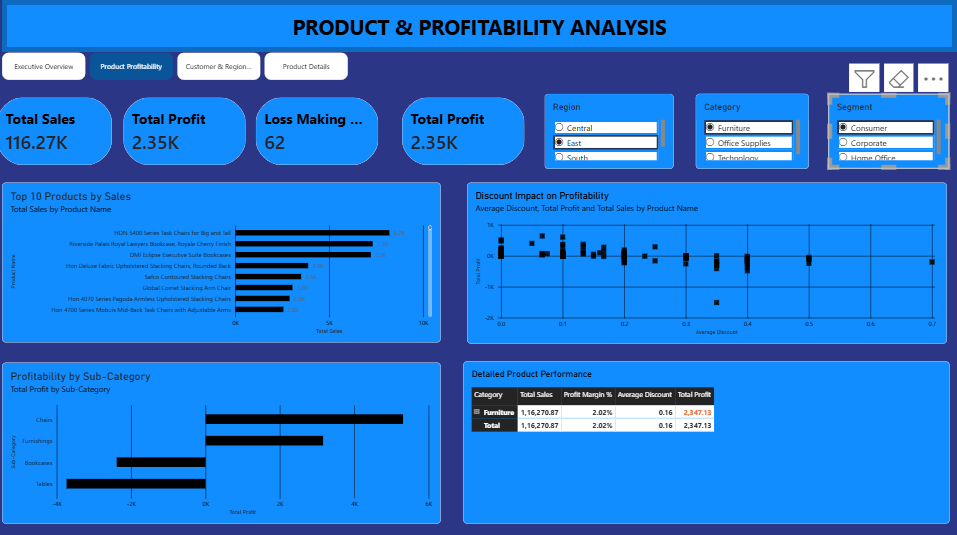

Layout of this report page (visuals, bound fields, positions):
{"tool":"powerbi","page":{"name":"Product Profitability","canvas":[1920,1080],"ordinal":1},"visuals":[{"type":"shape","box":[10,0,1910,104],"z":0},{"type":"clusteredBarChart","title":"Top 10 Products by Sales","fields":{"Category":["Fact_Sales.Product Name"],"Y":["Dim_Date.Total Sales"]},"box":[10,365,877.5,320],"z":1},{"type":"clusteredBarChart","title":"Profitability by Sub-Category","fields":{"Category":["Fact_Sales.Sub-Category"],"Y":["Dim_Date.Total Profit"]},"box":[10,725,877.5,322.5],"z":2},{"type":"scatterChart","title":"Discount Impact on Profitability","fields":{"Category":["Fact_Sales.Product Name"],"X":["Fact_Sales.Average Discount"],"Y":["Dim_Date.Total Profit"]},"box":[940,365,960,322.5],"z":3},{"type":"pivotTable","title":"Detailed Product Performance","fields":{"Rows":["Fact_Sales.Category","Fact_Sales.Sub-Category"],"Values":["Dim_Date.Total Sales","Dim_Date.Profit Margin %","Fact_Sales.Average Discount","Dim_Date.Total Profit"]},"box":[932.5,722.5,972.5,325],"z":4},{"type":"cardVisual","fields":{"Data":["Dim_Date.Total Sales"]},"box":[0,195,230,135],"z":5},{"type":"cardVisual","fields":{"Data":["Dim_Date.Total Profit"]},"box":[252.5,195,245,135],"z":6},{"type":"cardVisual","fields":{"Data":["Fact_Sales.Loss Making Products"]},"box":[517.5,195,245,135],"z":7},{"type":"cardVisual","fields":{"Data":["Dim_Date.Total Profit"]},"box":[810,195,245,135],"z":8},{"type":"listSlicer","fields":{"Values":["Fact_Sales.Region"]},"box":[1095,187.5,258,150],"z":9},{"type":"listSlicer","fields":{"Values":["Fact_Sales.Category"]},"box":[1397.5,187.5,226,150],"z":10},{"type":"listSlicer","fields":{"Values":["Fact_Sales.Segment"]},"box":[1662.5,187.5,242,150],"z":11},{"type":"pageNavigator","box":[10,105,695,55],"z":12}]}

Visuals, with their boxes in screenshot pixels (x1, y1, x2, y2), scaled from the page's 1920x1080 canvas onto the 957x535 screenshot:
shape: BBox(5, 0, 956, 52)
"Top 10 Products by Sales" clusteredBarChart: BBox(5, 181, 442, 339)
"Profitability by Sub-Category" clusteredBarChart: BBox(5, 359, 442, 519)
"Discount Impact on Profitability" scatterChart: BBox(469, 181, 947, 341)
"Detailed Product Performance" pivotTable: BBox(465, 358, 950, 519)
cardVisual - Dim_Date.Total Sales: BBox(0, 97, 115, 163)
cardVisual - Dim_Date.Total Profit: BBox(126, 97, 248, 163)
cardVisual - Fact_Sales.Loss Making Products: BBox(258, 97, 380, 163)
cardVisual - Dim_Date.Total Profit: BBox(404, 97, 526, 163)
listSlicer - Fact_Sales.Region: BBox(546, 93, 674, 167)
listSlicer - Fact_Sales.Category: BBox(697, 93, 809, 167)
listSlicer - Fact_Sales.Segment: BBox(829, 93, 949, 167)
pageNavigator: BBox(5, 52, 351, 79)
